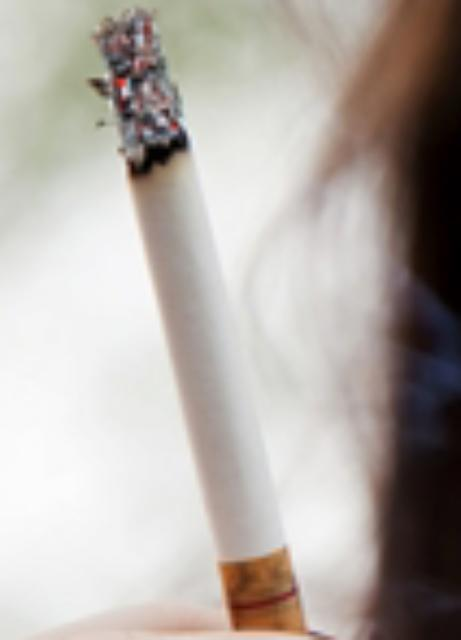Smoking: (98, 12, 308, 630)
